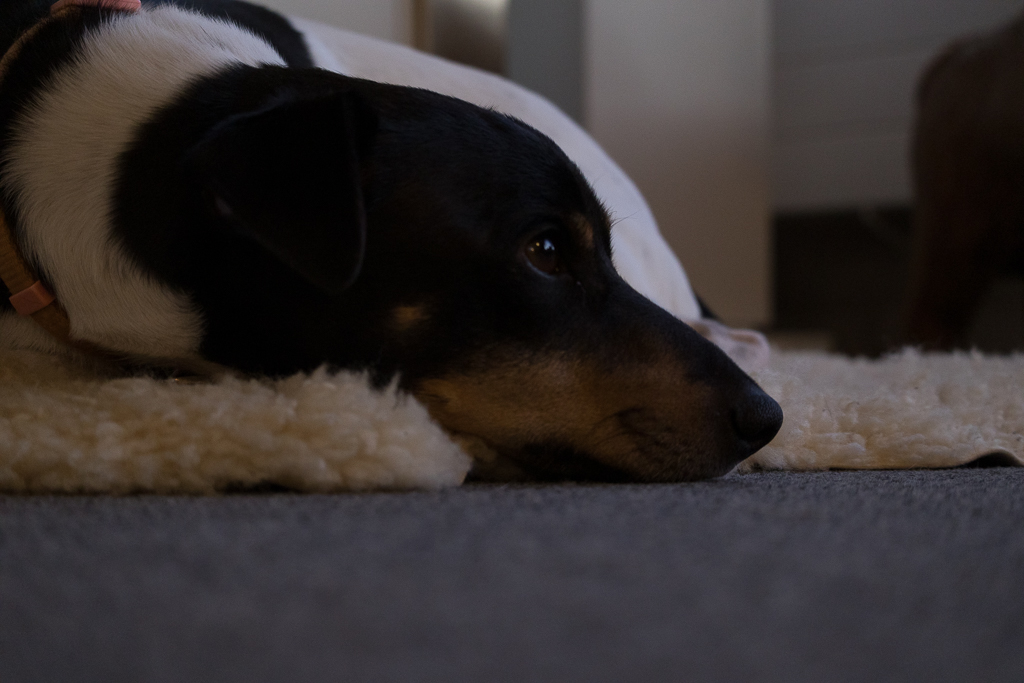Cattle: (894, 9, 1023, 375)
Dog: (0, 0, 800, 490)
